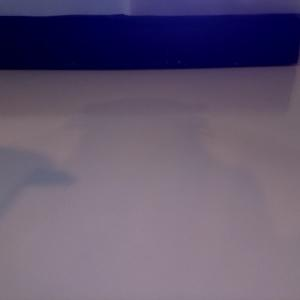zone: (1, 13, 300, 72)
